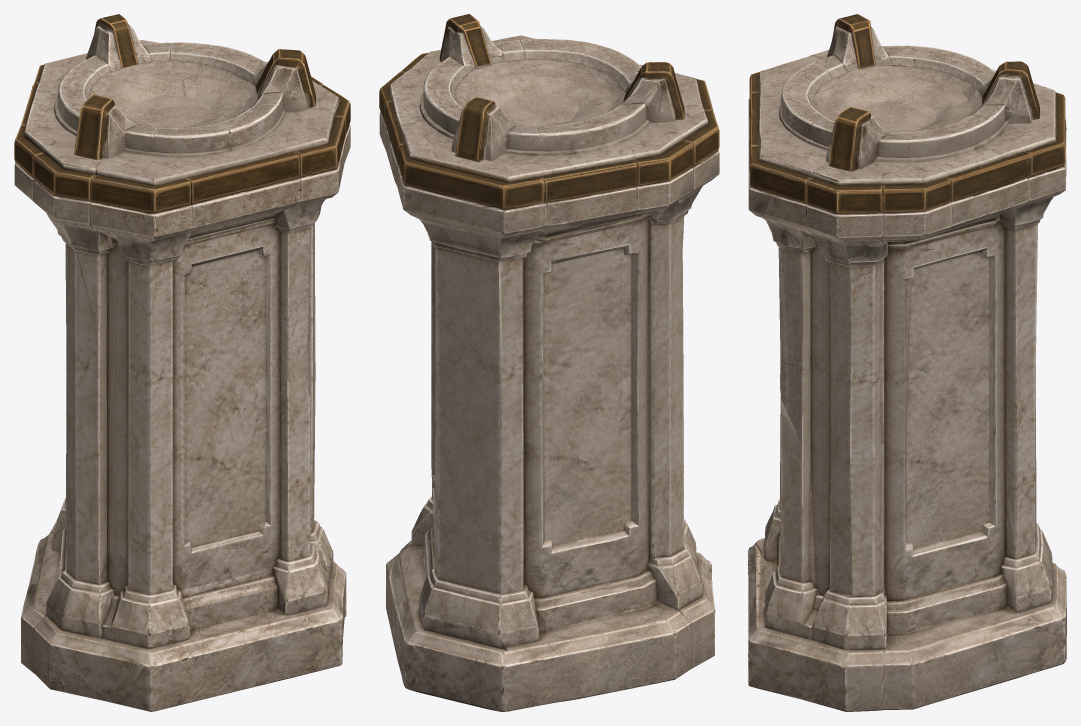
File: pedestal-v2.glb
3 renders of one model, left to right at view 1: azimuth 30°, elevation 25°; view 2: azimuth 150°, elevation 25°; view 3: azimuth 270°, elevation 25°, orthographic.
Visible parts, largest first — view 1: Mesh_0; view 2: Mesh_0; view 3: Mesh_0.
Boxes of the visible parts, bbox=[...] form: Mesh_0: bbox=[14, 14, 350, 711]; Mesh_0: bbox=[379, 14, 719, 711]; Mesh_0: bbox=[748, 14, 1066, 711].
Size of the model in its own units: 1.03 by 1.9 by 0.9562.
1 material, 1 textured.
